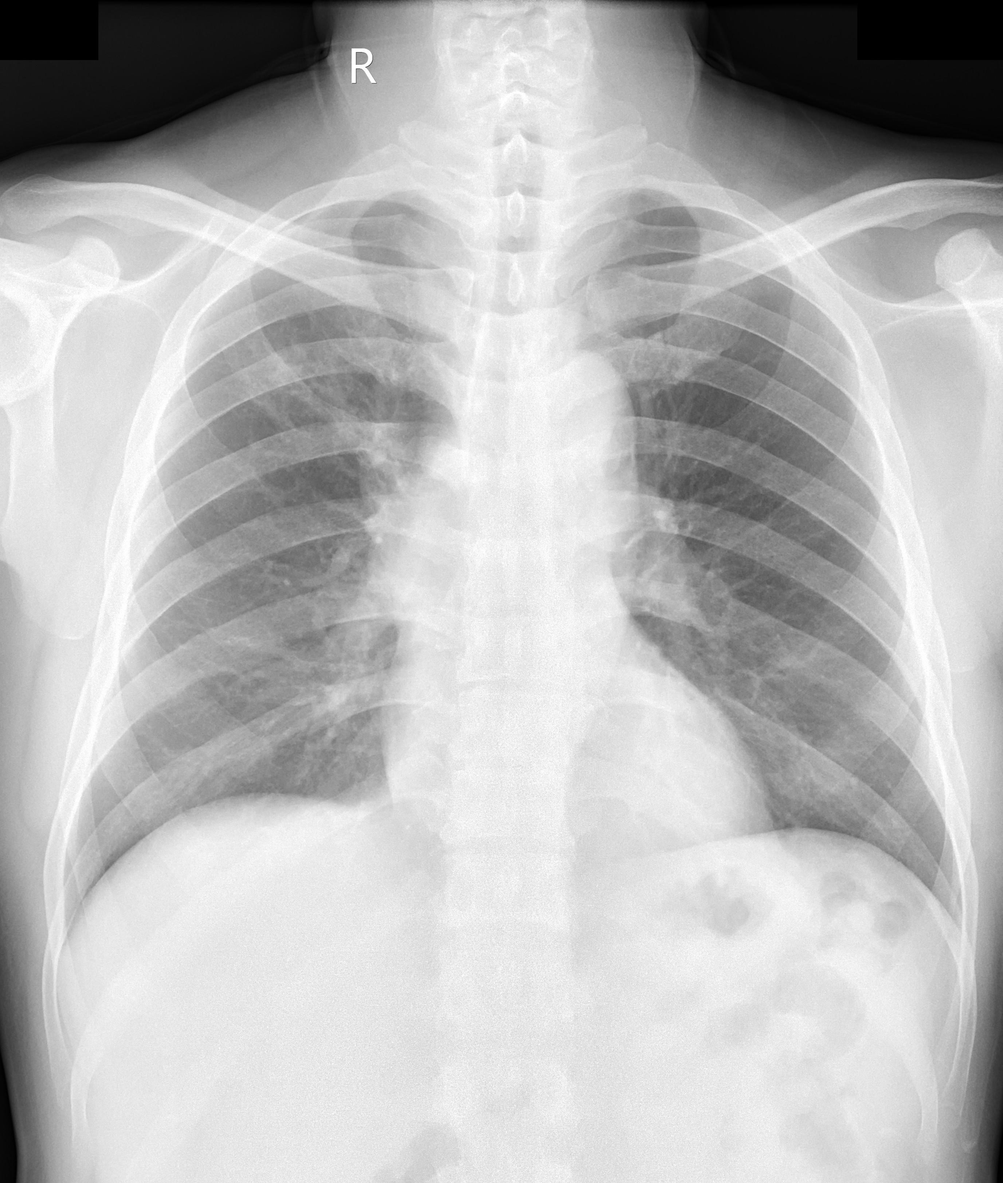Aortic enlargement: (508, 351, 639, 534)
Pulmonary fibrosis: (259, 326, 404, 499)
